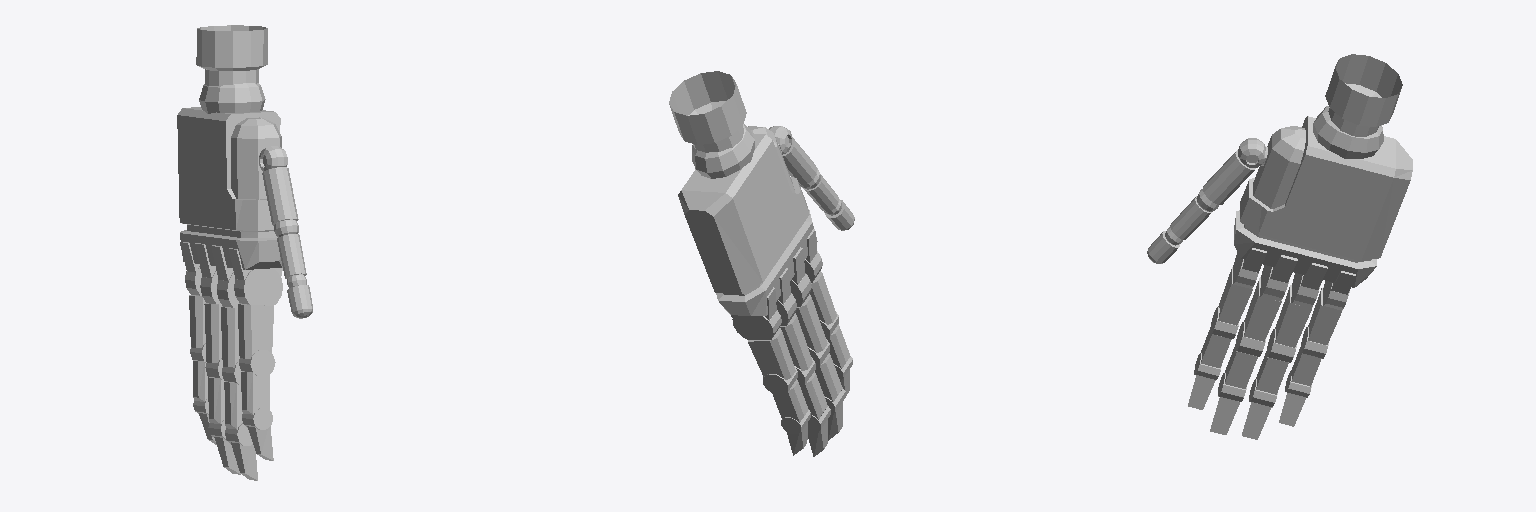
The picture shows the model from 3 angles: view 1: azimuth 30°, elevation 25°; view 2: azimuth 150°, elevation 25°; view 3: azimuth 270°, elevation 25°; orthographic projection.
Parts seen in each view (by area): view 1: H2 hands polySurface342, H2 hands polySurface340, H2 hands polySurface343, H2 hands polySurface341, H2 hands polySurface354, H2 hands polySurface353, H2 hands polySurface346, H2 hands polySurface356, H2 hands polySurface317, H2 hands polySurface327, H2 hands polySurface348, H2 hands polySurface335 (+8 smaller); view 2: H2 hands polySurface342, H2 hands polySurface340, H2 hands polySurface341, H2 hands polySurface335, H2 hands polySurface334, H2 hands polySurface317, H2 hands polySurface327, H2 hands polySurface346, H2 hands polySurface337, H2 hands polySurface354, H2 hands polySurface321, H2 hands polySurface329 (+2 smaller); view 3: H2 hands polySurface342, H2 hands polySurface340, H2 hands polySurface343, H2 hands polySurface341, H2 hands polySurface346, H2 hands polySurface317, H2 hands polySurface327, H2 hands polySurface354, H2 hands polySurface335, H2 hands polySurface321, H2 hands polySurface348, H2 hands polySurface329 (+11 smaller).
Boxes of the visible parts, x1,y1,x2,y2 form: H2 hands polySurface342: [177, 107, 282, 269]; H2 hands polySurface340: [196, 25, 267, 85]; H2 hands polySurface343: [231, 117, 281, 199]; H2 hands polySurface341: [199, 83, 265, 113]; H2 hands polySurface354: [238, 303, 273, 358]; H2 hands polySurface353: [234, 268, 282, 305]; H2 hands polySurface346: [262, 167, 298, 225]; H2 hands polySurface356: [241, 371, 269, 414]; H2 hands polySurface317: [221, 306, 239, 367]; H2 hands polySurface327: [204, 303, 221, 362]; H2 hands polySurface348: [277, 234, 306, 278]; H2 hands polySurface335: [189, 295, 205, 347]; H2 hands polySurface342: [678, 134, 817, 315]; H2 hands polySurface340: [669, 71, 746, 152]; H2 hands polySurface341: [692, 124, 754, 178]; H2 hands polySurface335: [748, 328, 795, 379]; H2 hands polySurface334: [732, 310, 781, 339]; H2 hands polySurface317: [795, 294, 827, 352]; H2 hands polySurface327: [780, 313, 812, 370]; H2 hands polySurface346: [782, 137, 816, 184]; H2 hands polySurface337: [772, 379, 808, 422]; H2 hands polySurface354: [810, 271, 836, 324]; H2 hands polySurface321: [815, 353, 842, 401]; H2 hands polySurface329: [801, 371, 827, 419]; H2 hands polySurface342: [1234, 116, 1412, 287]; H2 hands polySurface340: [1325, 54, 1402, 136]; H2 hands polySurface343: [1253, 126, 1305, 208]; H2 hands polySurface341: [1313, 106, 1383, 158]; H2 hands polySurface346: [1203, 150, 1255, 204]; H2 hands polySurface317: [1244, 277, 1281, 341]; H2 hands polySurface327: [1275, 285, 1312, 347]; H2 hands polySurface354: [1218, 267, 1252, 325]; H2 hands polySurface335: [1308, 287, 1342, 344]; H2 hands polySurface321: [1225, 347, 1257, 388]; H2 hands polySurface348: [1170, 196, 1211, 239]; H2 hands polySurface329: [1256, 353, 1288, 394].
Size of the model in its own units: 7.48 by 28.06 by 16.82.